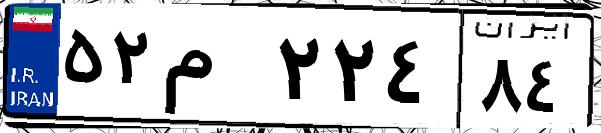2: (270, 28, 330, 110), (330, 28, 385, 110), (110, 28, 158, 98)
4: (385, 28, 445, 110), (525, 38, 570, 115)
5: (57, 26, 110, 100)
8: (475, 38, 525, 113)
م: (158, 20, 270, 120)
